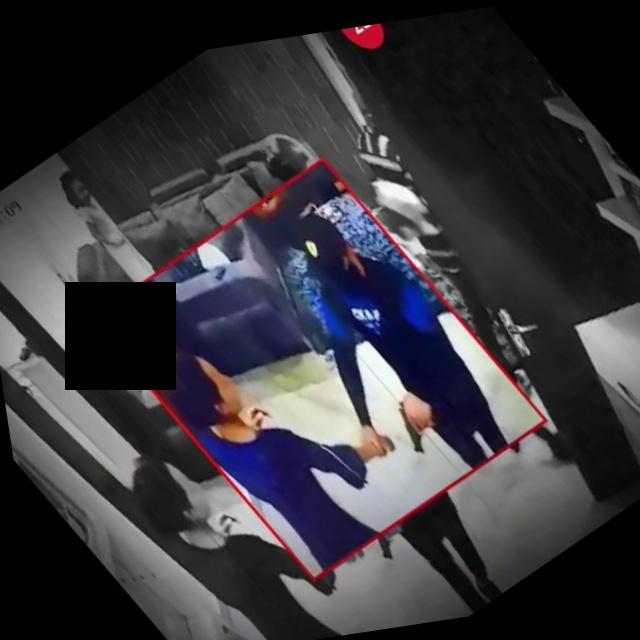gun: (381, 393, 446, 462)
